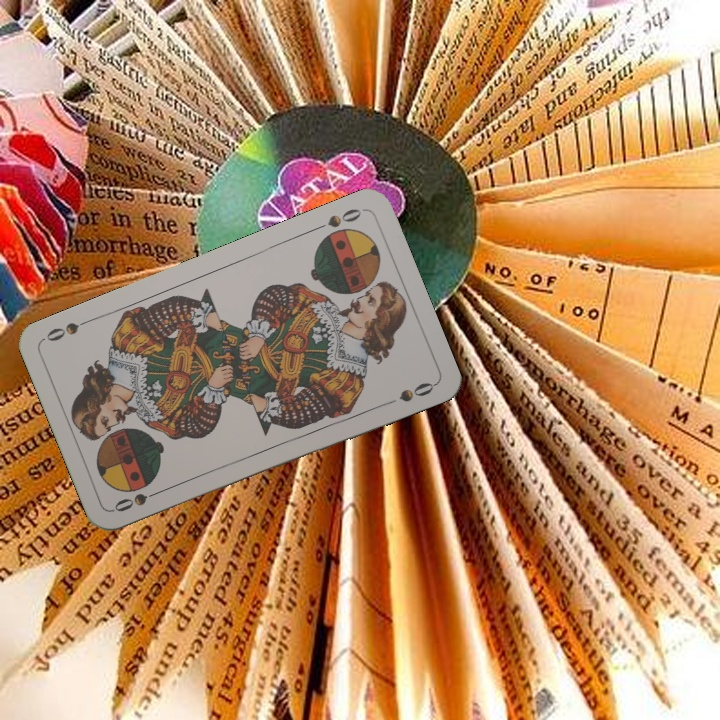SO: (110, 485, 167, 515), (310, 204, 366, 234)
